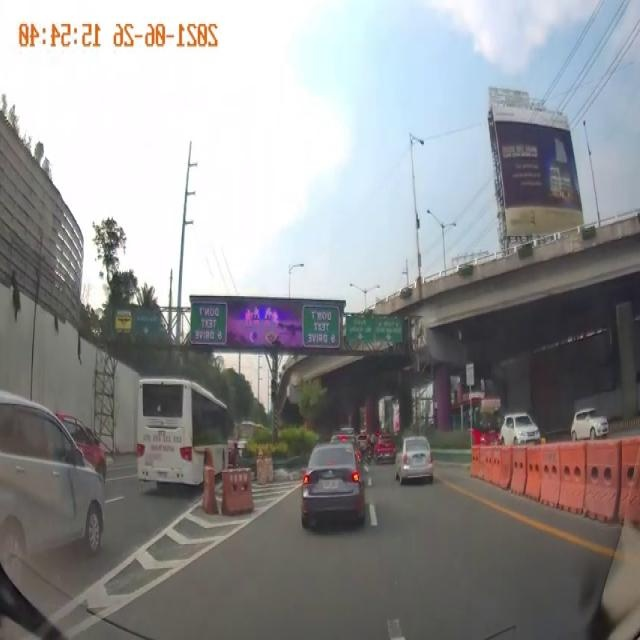bus: (130, 378, 236, 504)
car: (0, 404, 106, 584), (296, 442, 360, 544), (396, 430, 439, 491), (499, 410, 541, 455), (568, 407, 610, 441), (376, 428, 396, 464)
motorcycle: (366, 436, 373, 461)
